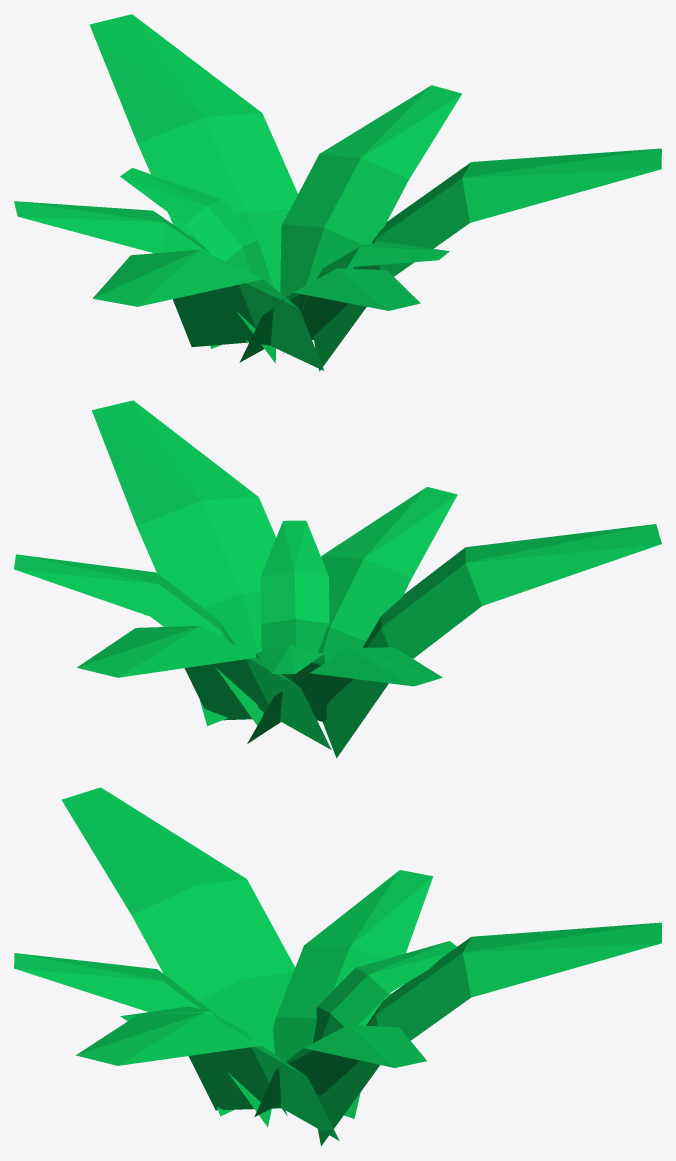
File: plant.dae
3 views of the same model, one above another, from view 1: azimuth 30°, elevation 25°; view 2: azimuth 150°, elevation 25°; view 3: azimuth 270°, elevation 25° (orthographic). The views are drawn at different scales.
Visible parts, largest first — view 1: Plane; view 2: Plane; view 3: Plane.
Part boxes in pixels (x1,y1,x2,y2): Plane: [14, 14, 661, 371]; Plane: [14, 400, 661, 758]; Plane: [14, 787, 661, 1146].
Bounding box in the file's own units: 4.58 × 4.46 × 1.44.
Materials: 1 (1 with a texture image).
